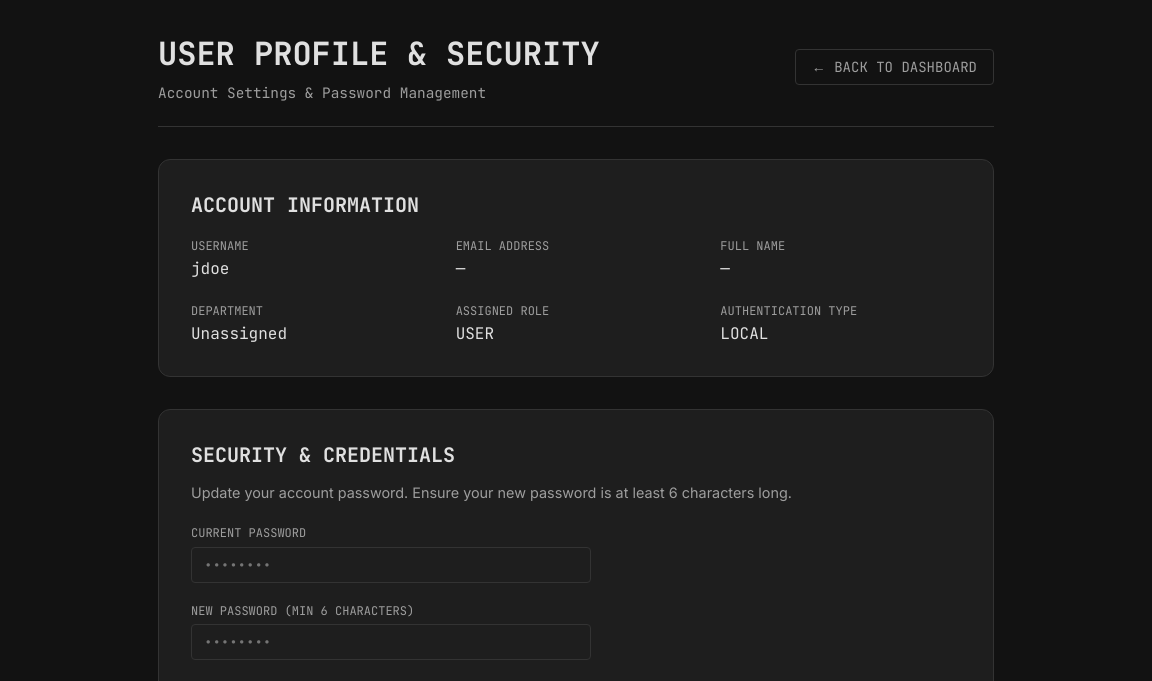
Test: ProfilePage Password Management › displays mismatch error if new password and confirm password do not match
Type "oldpass123" into the password field labelled "Current Password" at (391, 565), box [191, 547, 591, 583]
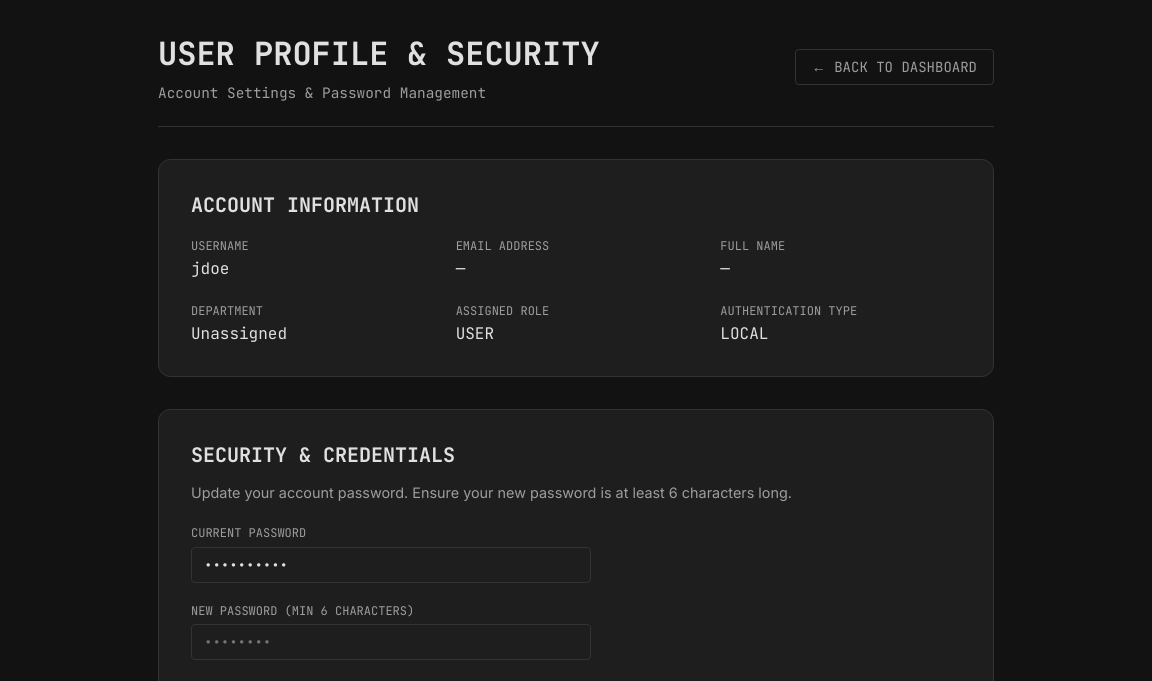
Type "newpass123" into the password field labelled "New Password (Min 6 Characters)" at (391, 642), box [191, 624, 591, 660]
(page scrolled)
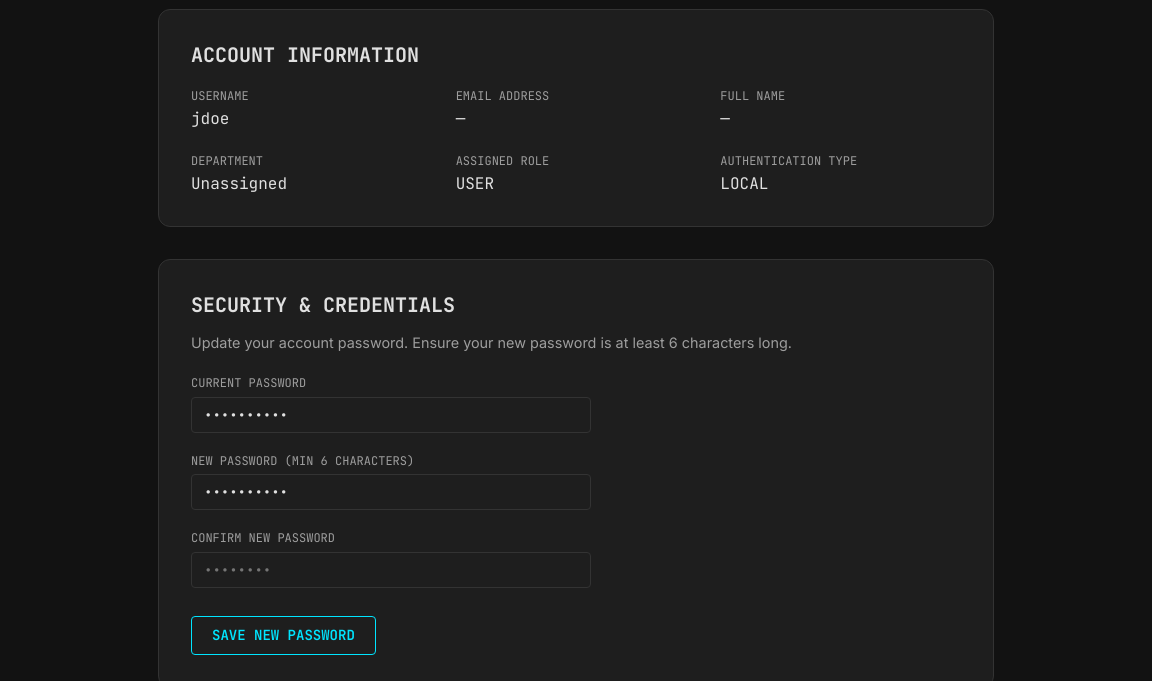
Type "mismatch" into the password field labelled "Confirm New Password" at (391, 570), box [191, 552, 591, 588]
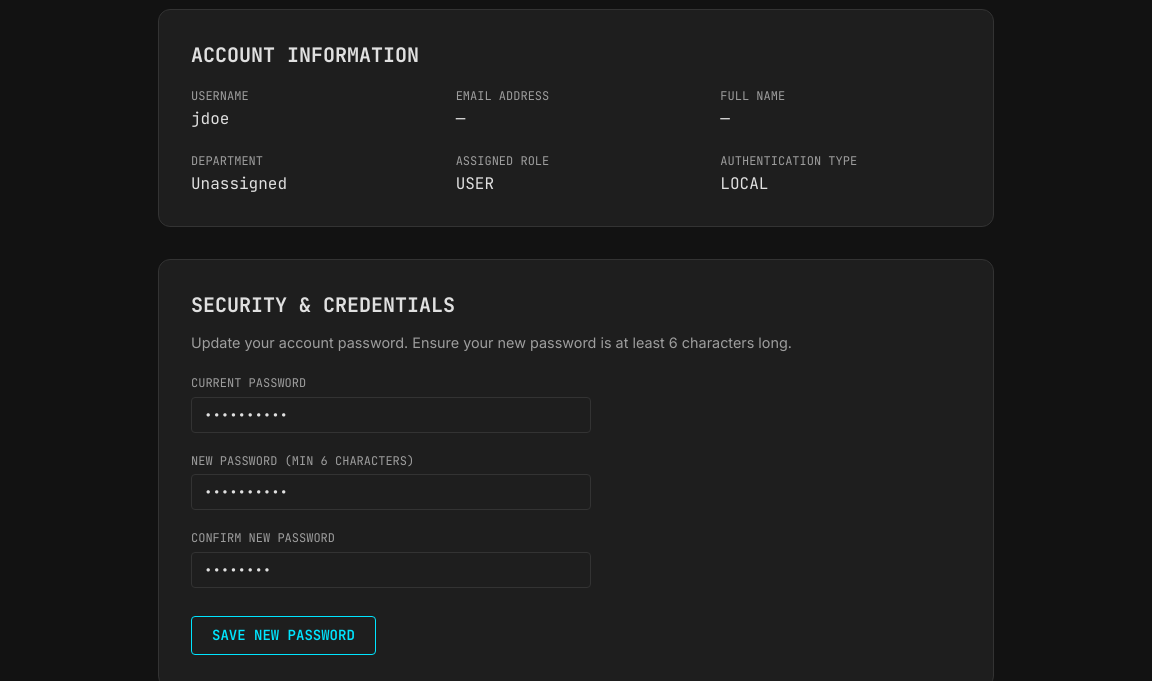
Click the button "Save New Password" at (283, 635), box [191, 616, 376, 655]
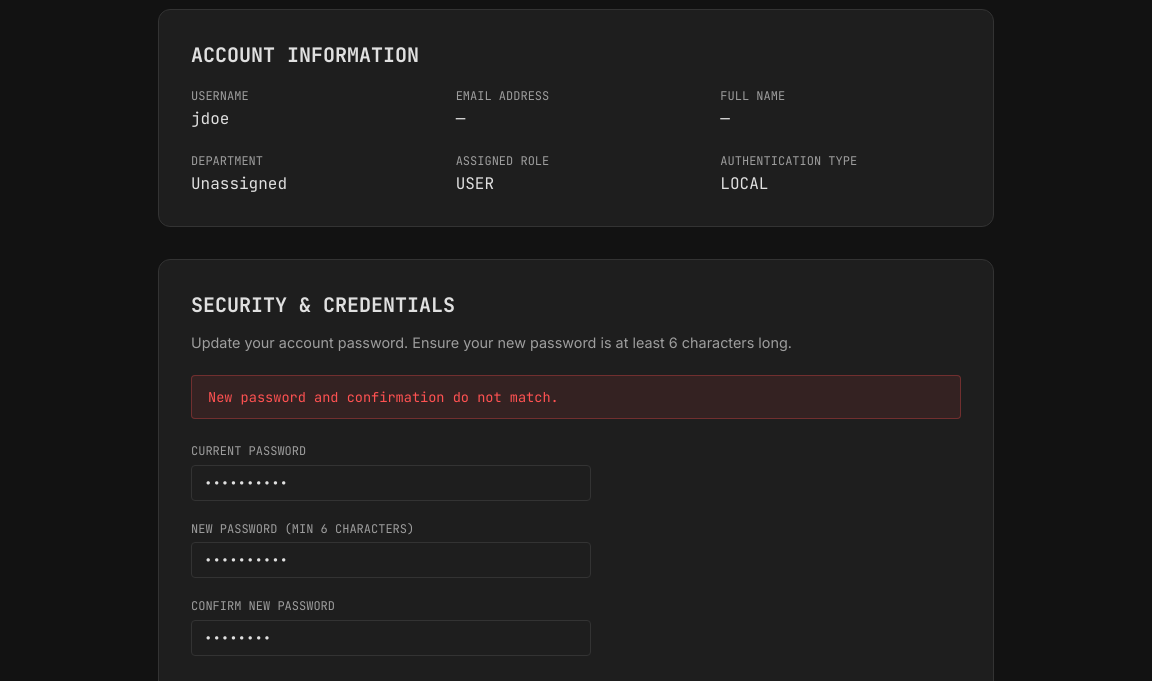
Expected: the text "New password and confirmation do not match." is shown, [191, 375, 961, 419]
